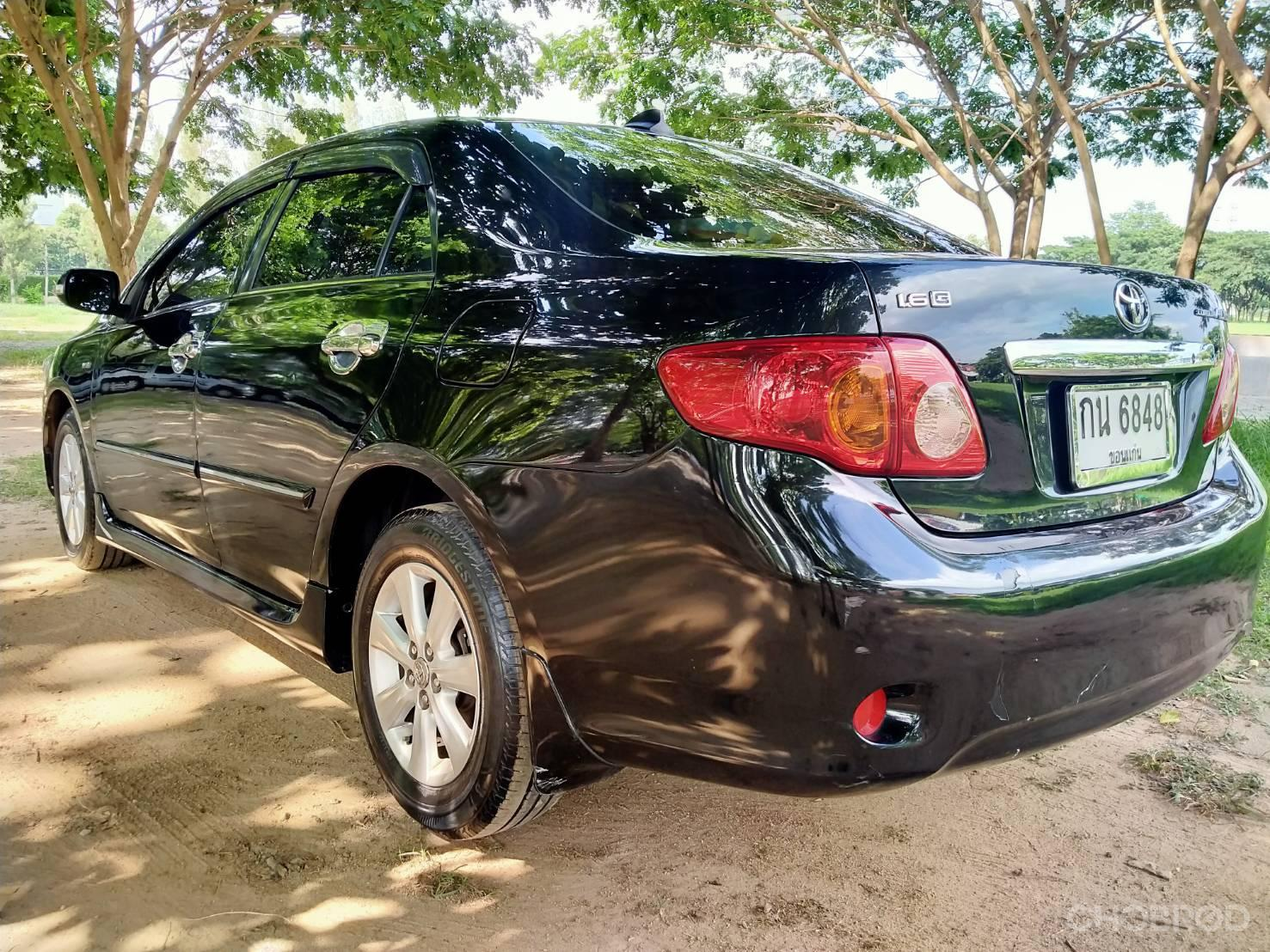license-plate: (1053, 377, 1186, 496)
